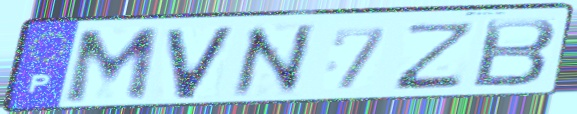7: (328, 26, 388, 91)
B: (468, 16, 561, 90)
M: (60, 25, 164, 108)
N: (229, 21, 317, 101)
V: (163, 24, 239, 102)
Z: (388, 19, 481, 92)
